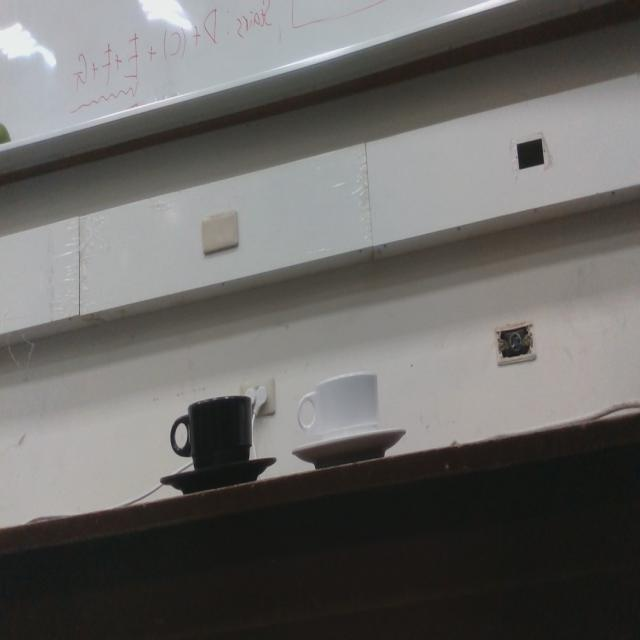black: (158, 390, 279, 498)
white: (290, 367, 410, 472)
